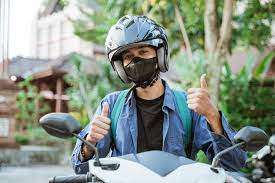with_helmet: (104, 16, 168, 55)
